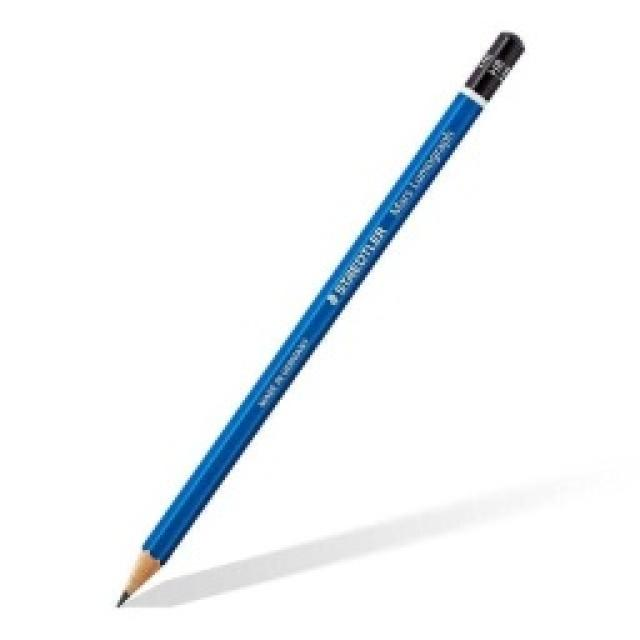pencil: (112, 25, 530, 607)
